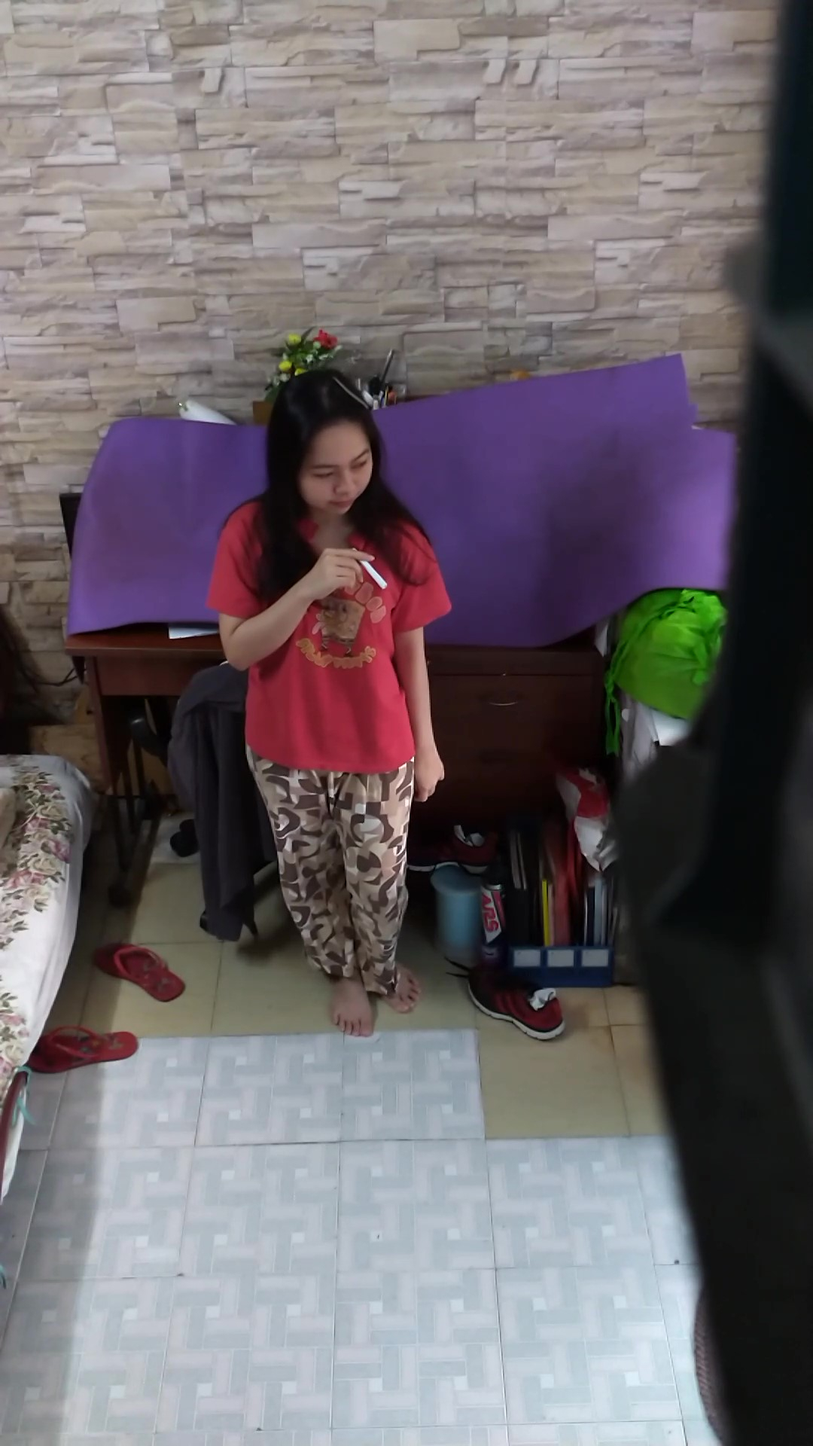cigarette: (358, 560, 391, 593)
person: (212, 356, 453, 1028)
